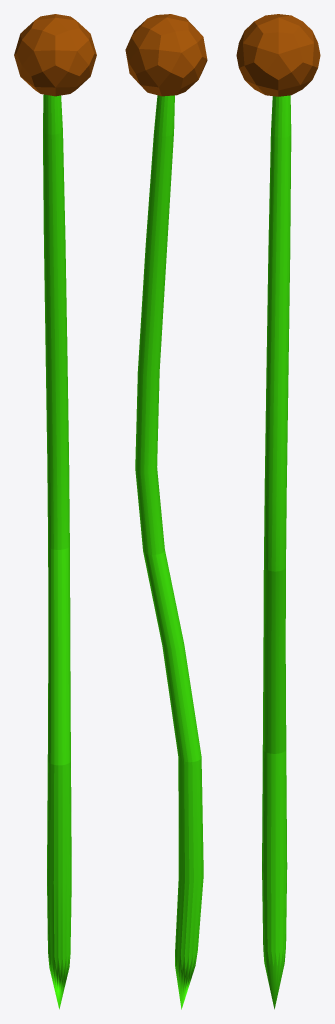
The model's file is DaisyDyingSDM.fbx.
The picture shows the model from 3 angles, left to right: view 1: azimuth 90°, elevation 25°; view 2: azimuth 150°, elevation 25°; view 3: azimuth 270°, elevation 25°; orthographic projection.
Parts seen in each view (by area): view 1: Cylinder.002, Icosphere; view 2: Cylinder.002, Icosphere; view 3: Cylinder.002, Icosphere.
Part boxes in pixels (<box>): Cylinder.002: <box>43,94,71,1009</box>; Icosphere: <box>14,14,96,96</box>; Cylinder.002: <box>135,95,203,1009</box>; Icosphere: <box>125,14,207,96</box>; Cylinder.002: <box>262,95,291,1009</box>; Icosphere: <box>236,14,320,96</box>.
Bounding box in the file's own units: 31.86 × 422 × 32.16.
